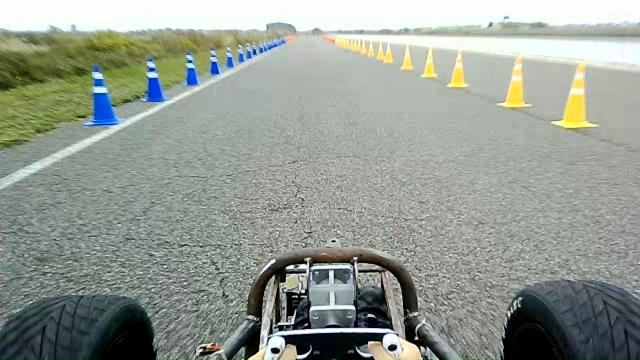blue cone: (82, 64, 124, 126), (139, 56, 169, 102), (184, 50, 199, 86), (208, 47, 220, 75), (225, 46, 235, 68), (237, 45, 245, 62), (245, 42, 252, 59), (251, 41, 257, 56)
yellow cone: (550, 62, 599, 129), (496, 54, 533, 108), (446, 50, 468, 88), (421, 46, 438, 78), (400, 43, 414, 70), (383, 42, 393, 63), (376, 41, 385, 60), (367, 40, 375, 57), (360, 40, 367, 55), (352, 39, 359, 52)
